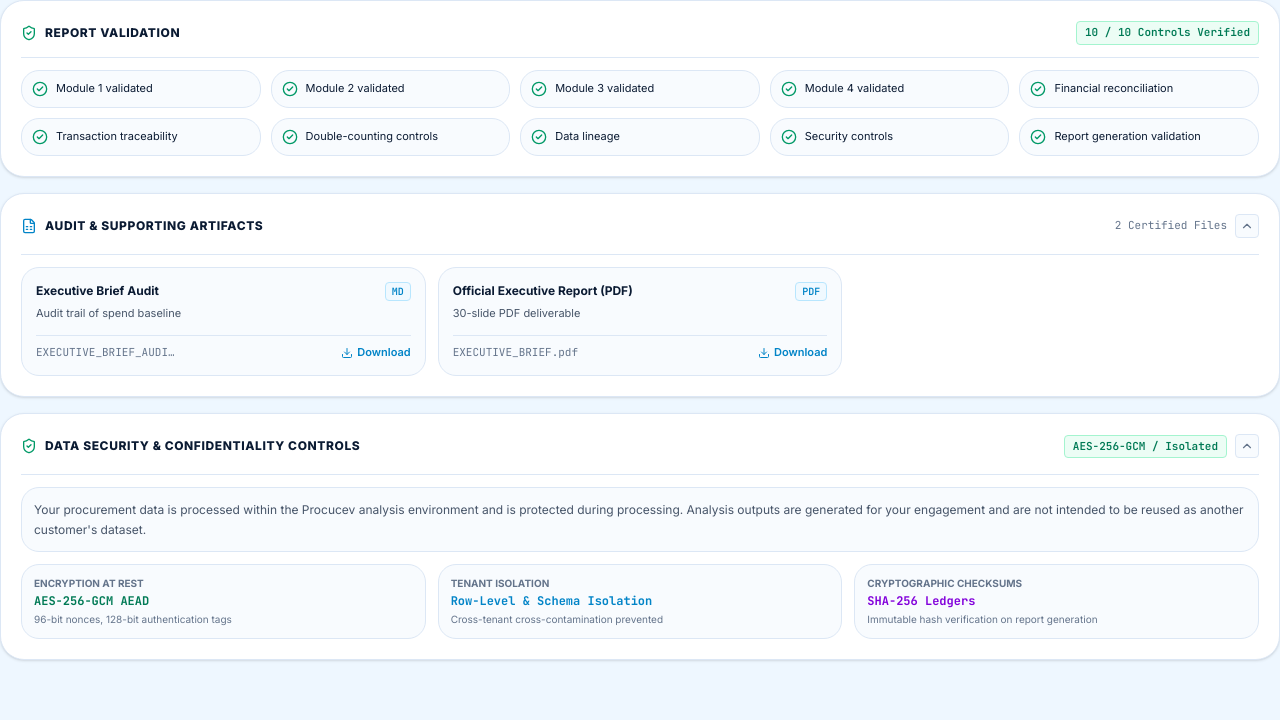
ExecutiveBriefAuditValidationPanel › handles collapse and expand toggle for data security panel
Expected: the text "Your procurement data is processed within the Procucev analysis environment" is shown, [34,502,1244,537]
Click the button with test id "toggle-security-btn" at [203, 446], box [21,434,1259,458]
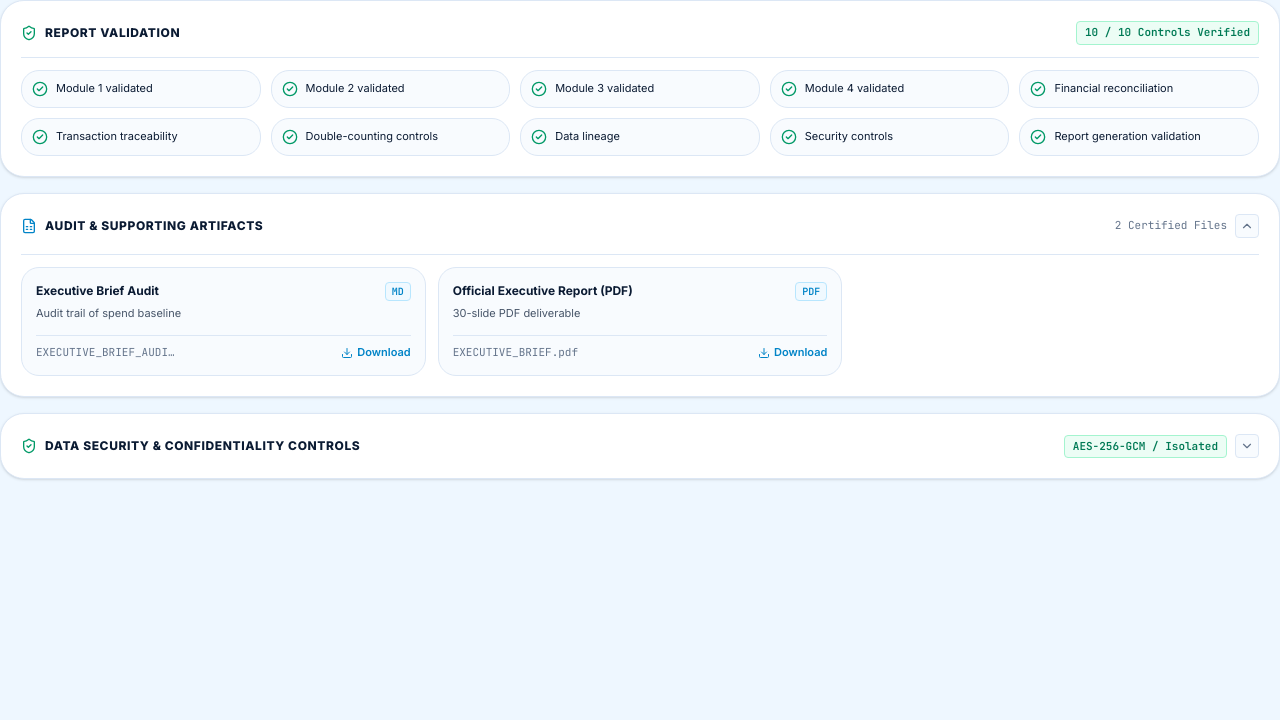
Now the text "Your procurement data is processed within the Procucev analysis environment" is gone
Click the button with test id "toggle-security-btn" at [203, 446], box [21,434,1259,458]
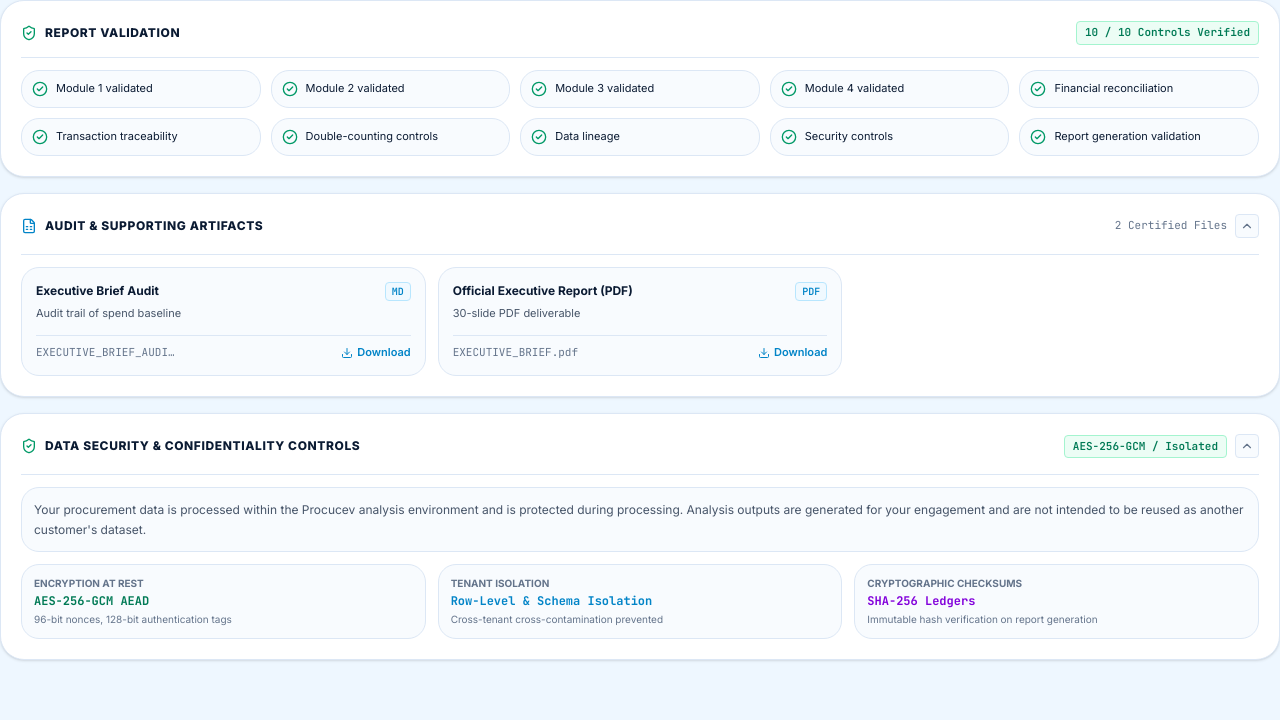
Now the text "Your procurement data is processed within the Procucev analysis environment" is shown, box [34,502,1244,537]
